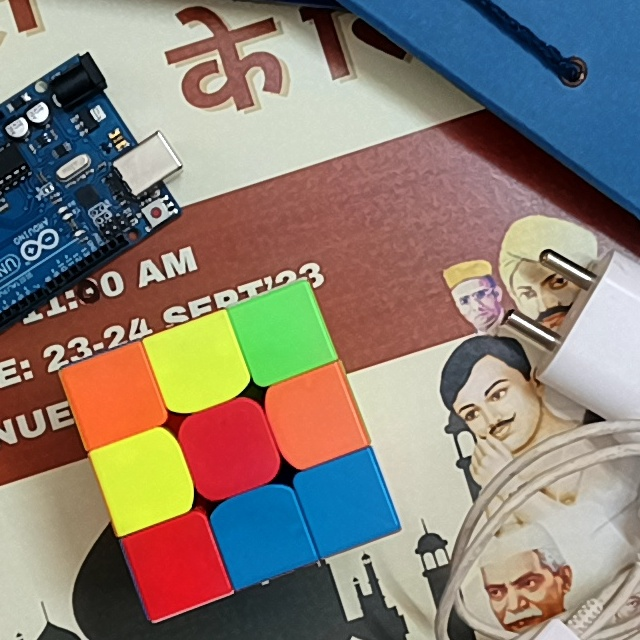tile: (110, 448, 177, 513), (228, 501, 295, 566), (282, 384, 346, 452), (200, 413, 265, 477), (251, 303, 315, 366), (146, 533, 210, 596), (316, 468, 379, 532), (82, 365, 144, 428), (167, 335, 230, 397)
